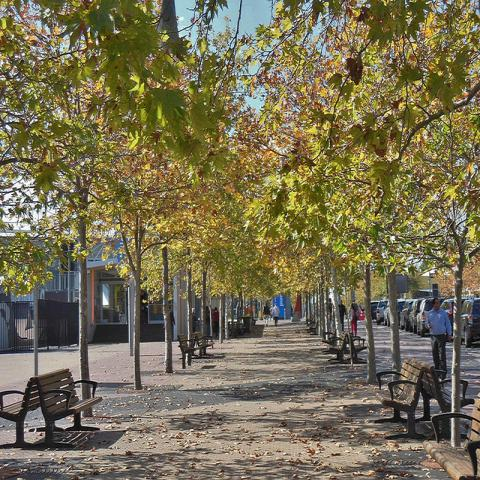car: (376, 296, 480, 347), (416, 297, 446, 337), (384, 299, 413, 326), (440, 299, 454, 339), (400, 300, 414, 331), (409, 300, 421, 334), (376, 300, 389, 325), (372, 302, 378, 320)
